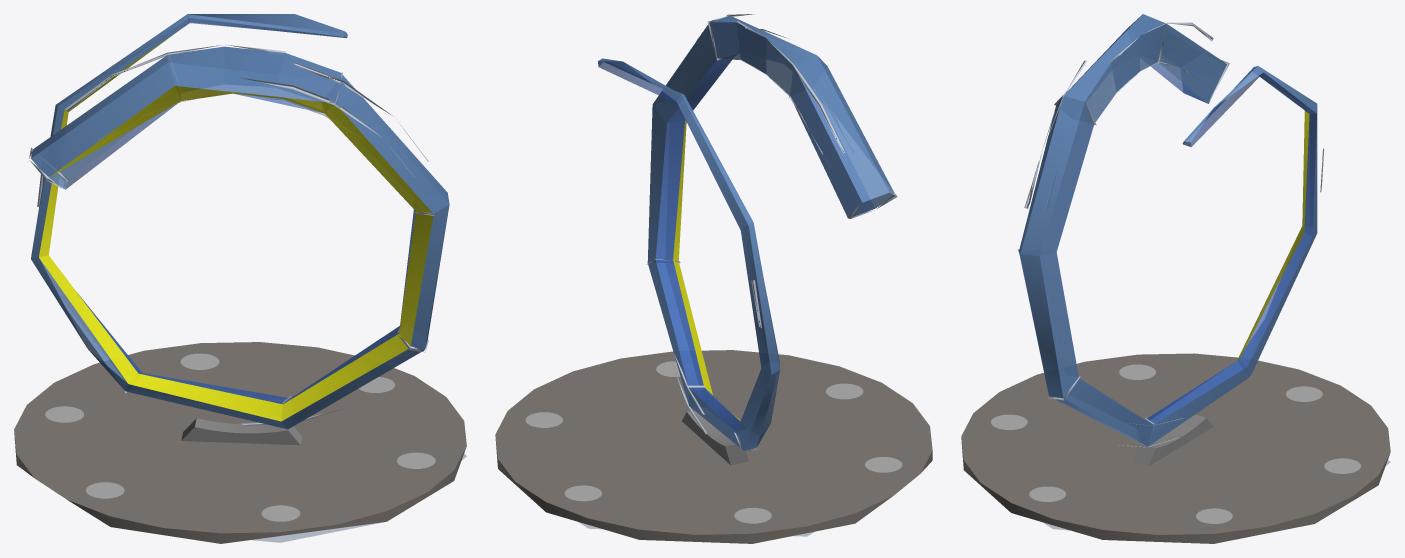
File: public-sculpture.glb
3 views of the same model, side by side, from view 1: azimuth 30°, elevation 25°; view 2: azimuth 150°, elevation 25°; view 3: azimuth 270°, elevation 25° (orthographic). The views are drawn at different scales.
Parts seen in each view (by area): view 1: LOD0; view 2: LOD0; view 3: LOD0.
Boxes of the visible parts, x1,y1,x2,y2 form: LOD0: [14, 14, 466, 543]; LOD0: [495, 14, 932, 543]; LOD0: [961, 14, 1390, 543].
Size of what is drawn, in the model's own units: 6.09 by 6.29 by 6.07.
4 materials, 4 textured.
